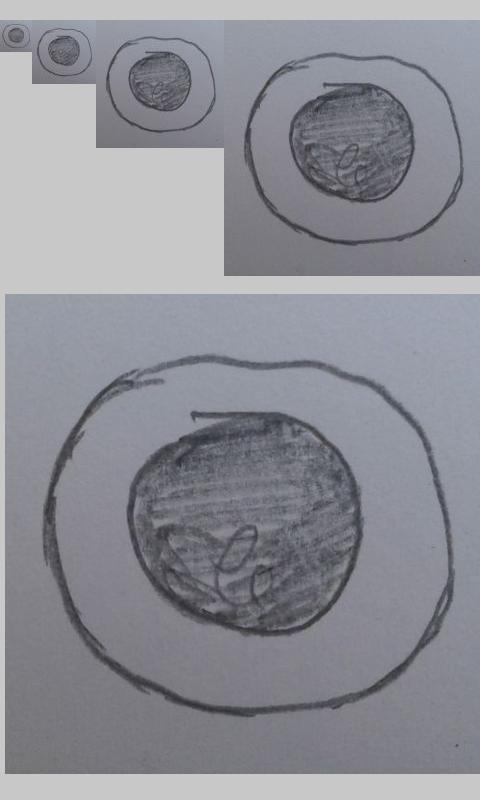radio_button: (43, 353, 458, 718), (242, 51, 465, 247), (105, 35, 217, 134), (36, 27, 93, 77), (1, 23, 31, 49)
